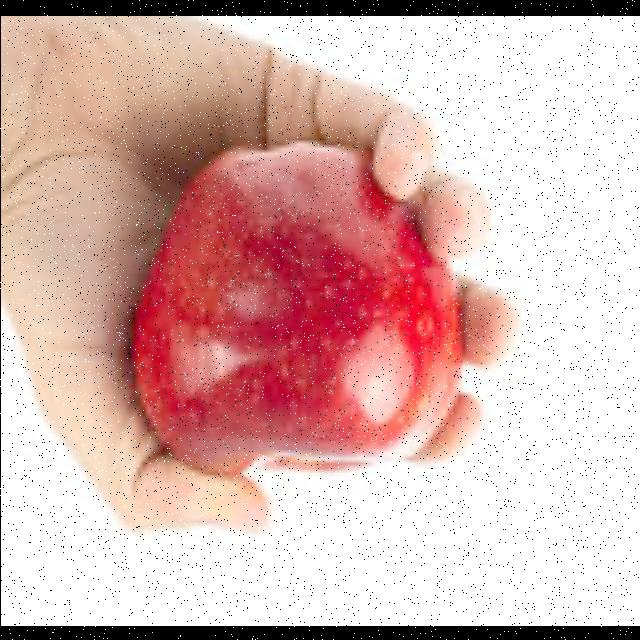Apel Segar: (98, 98, 470, 502)
